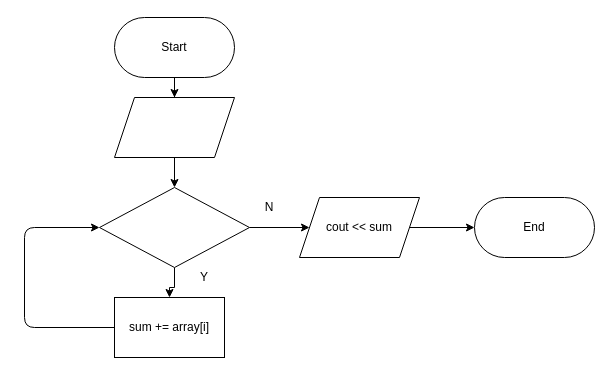
Image size: 612x375. Some labels were removed from this diagram. Each missing label, with the centre of its shape:
"array[4]" belongs at point 174,127.
"for (j=0; i<4; i++)" belongs at point 174,227.
